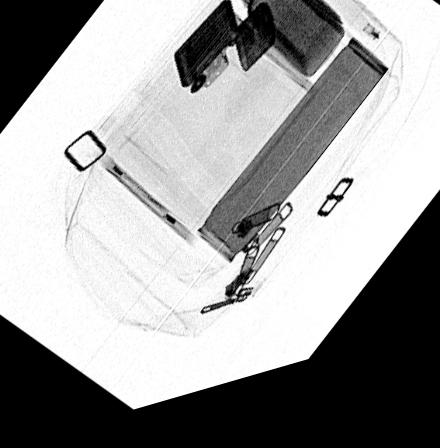Lighter: (171, 11, 275, 107)
